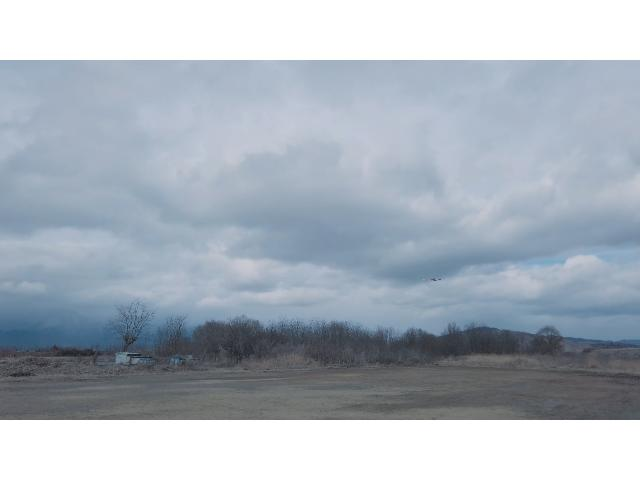Anti-Drone: (423, 275, 441, 285)
